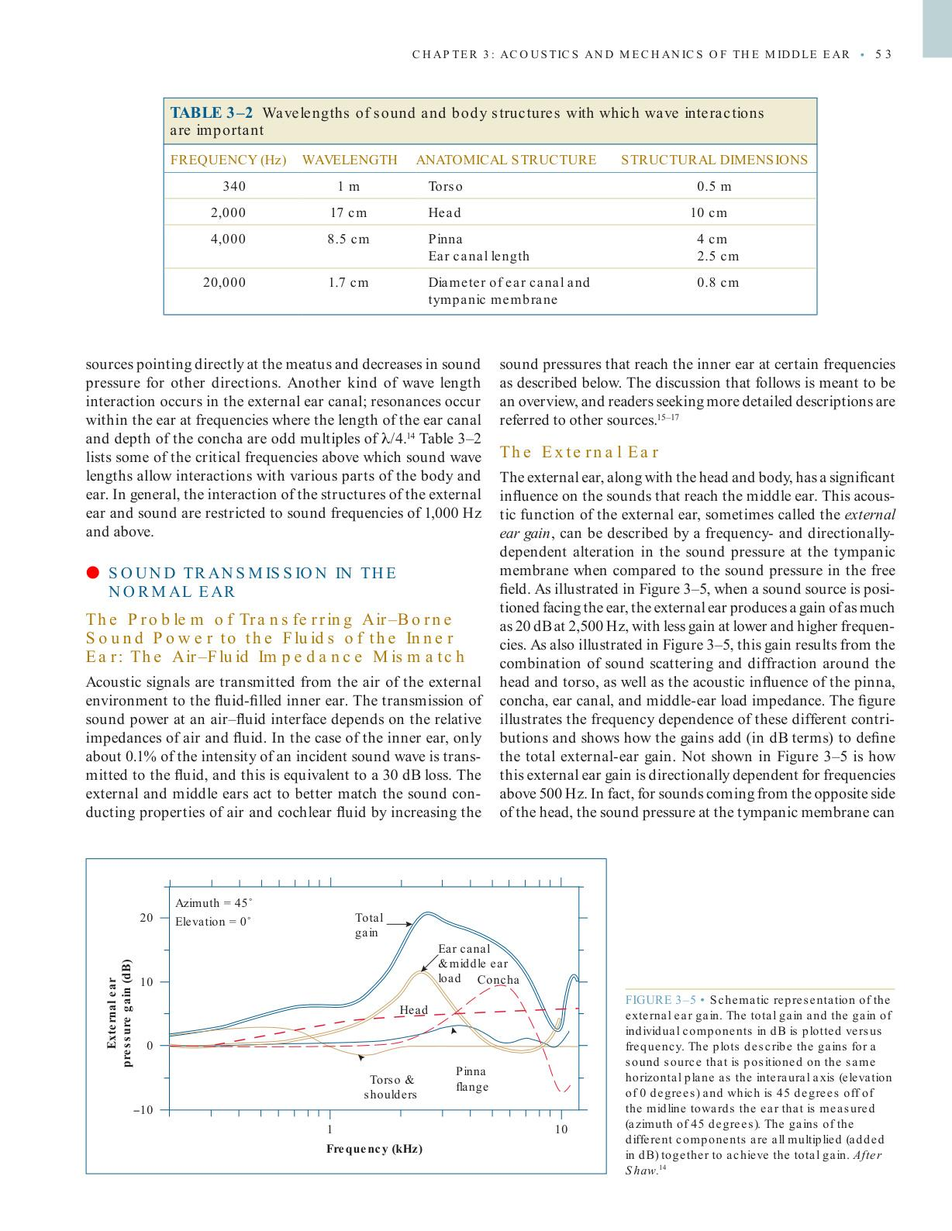caption: (623, 992, 894, 1177), (169, 103, 768, 142)
header: (411, 48, 851, 61)
image: (93, 864, 600, 1168)
section-heading: (107, 563, 399, 601)
sub-section-heading: (83, 610, 467, 668), (497, 441, 662, 460)
table: (163, 142, 818, 316)
text: (498, 469, 900, 823), (84, 357, 484, 540), (83, 673, 485, 822), (497, 356, 897, 428)
